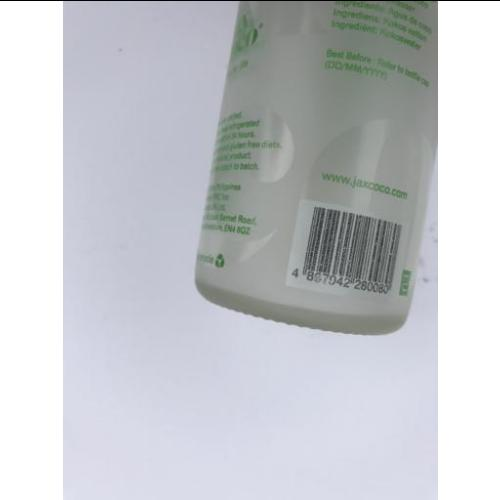glass: (193, 1, 438, 336)
